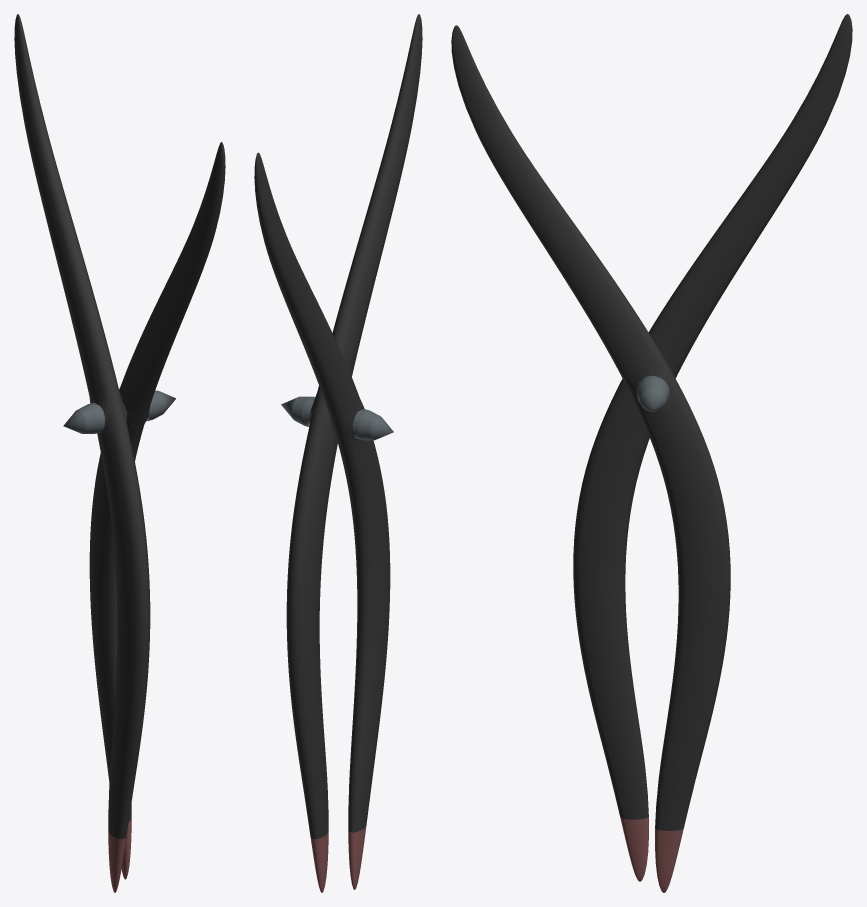
Rendered from Tongs.fbx.
3 renders of one model, left to right at view 1: azimuth 30°, elevation 25°; view 2: azimuth 150°, elevation 25°; view 3: azimuth 270°, elevation 25°, orthographic. The views are drawn at different scales.
Visible parts, largest first — view 1: nurbsToPoly3, nurbsToPoly2, pCylinder2; view 2: nurbsToPoly2, nurbsToPoly3, pCylinder2; view 3: nurbsToPoly2, nurbsToPoly3, pCylinder2.
Part boxes in pixels (x1,y1,x2,y2): nurbsToPoly3: (14,14,150,892); nurbsToPoly2: (89,142,225,879); pCylinder2: (63,390,175,433); nurbsToPoly2: (286,14,422,892); nurbsToPoly3: (254,152,390,889); pCylinder2: (281,396,393,440); nurbsToPoly2: (451,25,730,892); nurbsToPoly3: (573,14,852,881); pCylinder2: (636,375,669,411).
Bounding box in the file's own units: 5.19 × 35.39 × 14.83.
